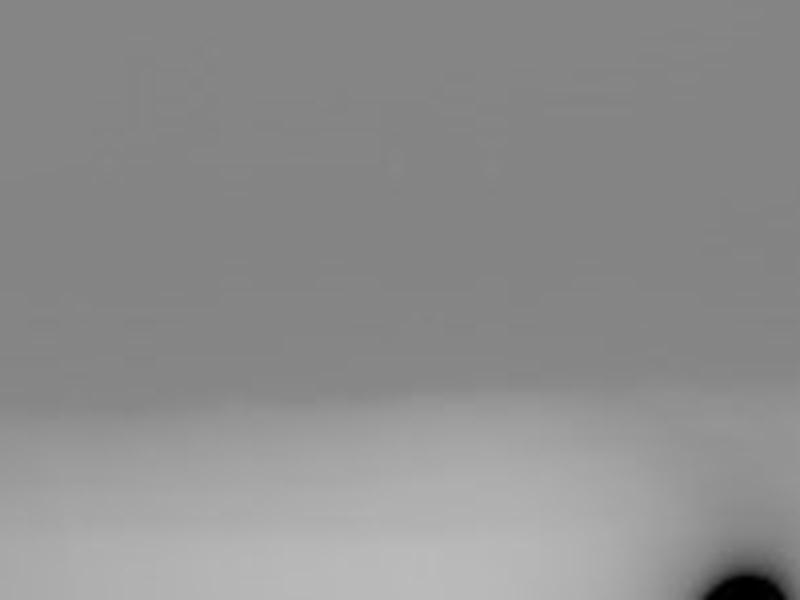defect: (701, 574, 788, 600)
